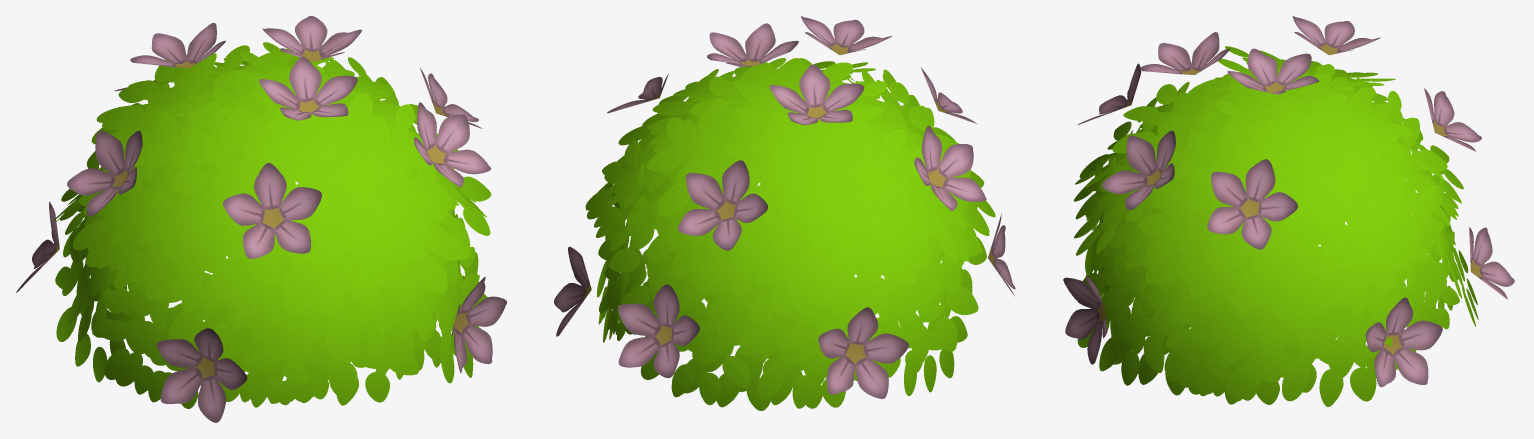
The model's file is bush-flowers.glb.
3 renders of one model, left to right at view 1: azimuth 30°, elevation 25°; view 2: azimuth 150°, elevation 25°; view 3: azimuth 270°, elevation 25°, orthographic. The views are drawn at different scales.
Parts seen in each view (by area): view 1: Bush_Flowers; view 2: Bush_Flowers; view 3: Bush_Flowers.
Boxes of the visible parts, x1=… form: Bush_Flowers: x1=16, y1=16, x2=506, y2=422; Bush_Flowers: x1=554, y1=16, x2=1015, y2=410; Bush_Flowers: x1=1063, y1=16, x2=1514, y2=406.
Bounding box in the file's own units: 1.09 × 0.7585 × 1.11.
2 materials, 2 textured.
